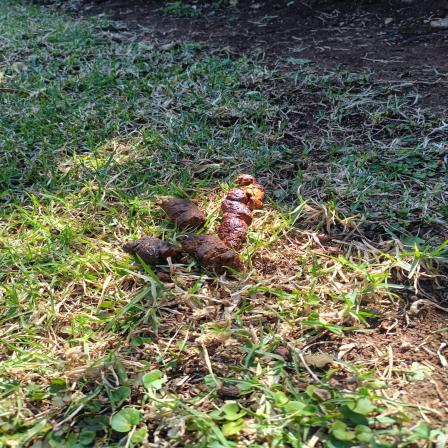dog-poop: (124, 170, 274, 276)
